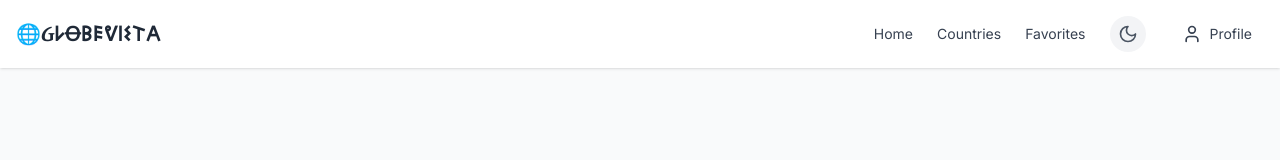
Test case: Navbar › displays profile menu when profile button is clicked
The image size is (1280, 160).
Click to open profile menu
Click the button with test id "profile-button" at x=1217, y=34, box [1170,16,1264,52]
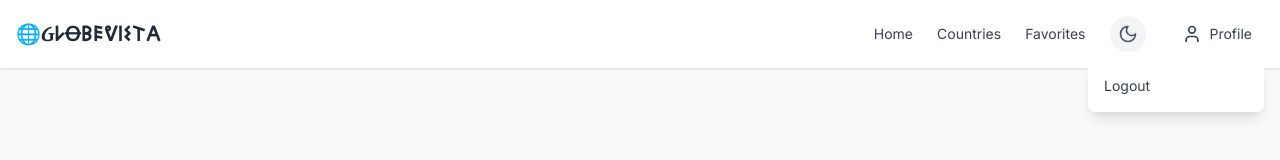
Expected: the button "Logout" is shown, [1088,68,1264,104]
